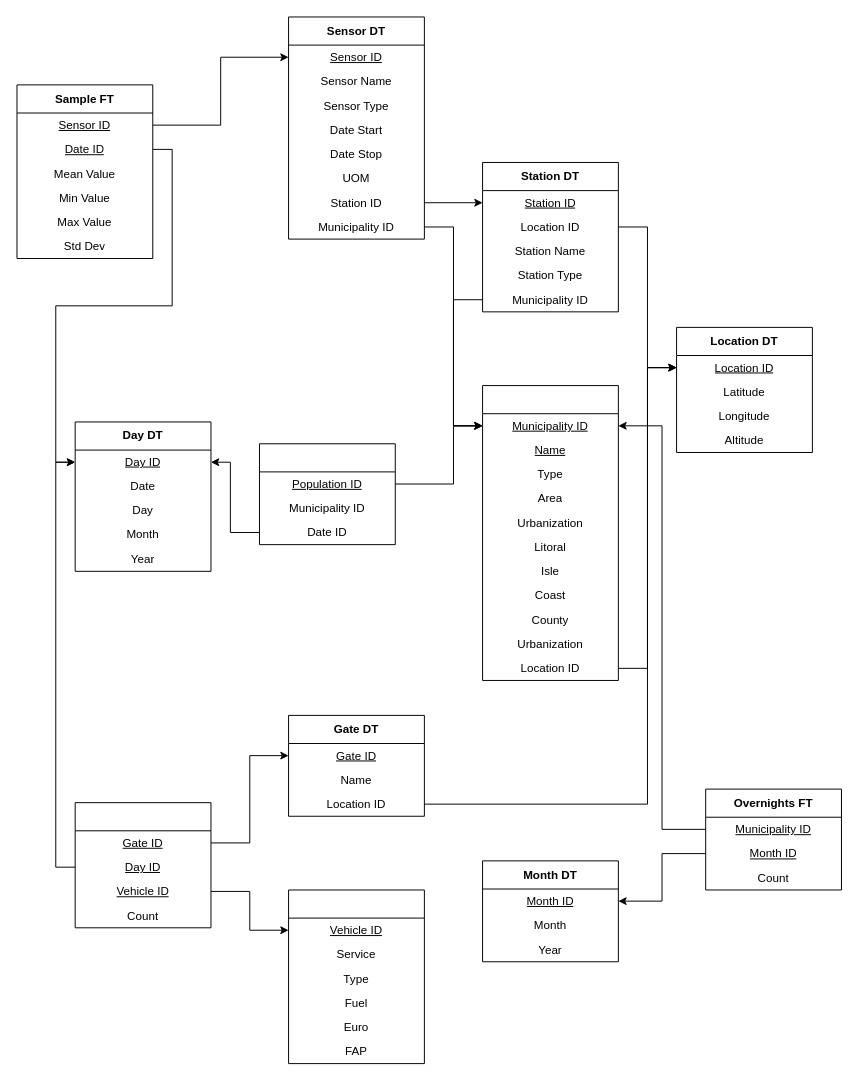
Some shapes in this 858 by 1081 pixel diagram are drawn without their labels. Each missing label, with the box of its shape:
Gate Access FT: (74, 802, 211, 928)
Municipality DT: (482, 385, 618, 680)
Population DT: (259, 443, 395, 545)
Vehicle DT: (288, 889, 424, 1064)
